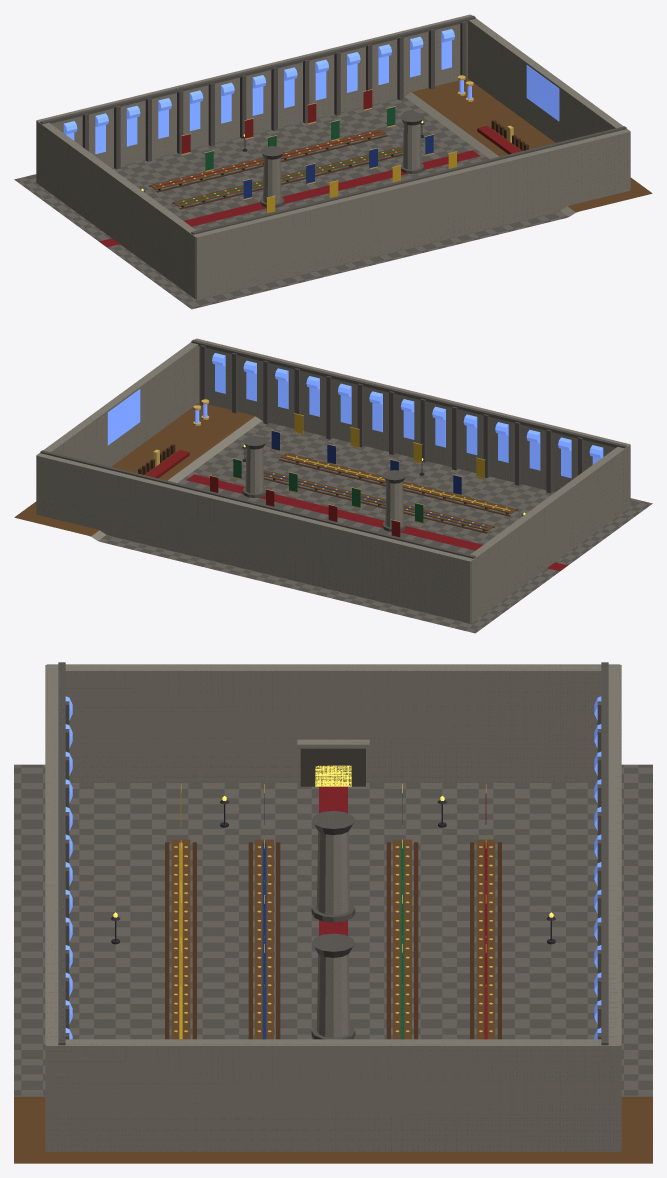
Rendered from greathall.glb.
The picture shows the model from 3 angles, top to bottom: view 1: azimuth 30°, elevation 25°; view 2: azimuth 150°, elevation 25°; view 3: azimuth 270°, elevation 25°; orthographic projection. The views are drawn at different scales.
Visible parts, largest first — view 1: hall_walls, ground, hall_table_0, hall_table_1, hall_pillar_1, hall_pillar_0, hall_teacher, hall_banners_0, hall_banners_2, hall_banners_1, hall_banners_3; view 2: hall_walls, ground, hall_table_3, hall_table_2, hall_pillar_1, hall_pillar_0, hall_teacher, hall_banners_3, hall_banners_1, hall_banners_2, hall_banners_0; view 3: hall_walls, ground, hall_table_0, hall_table_3, hall_table_1, hall_table_2, hall_pillar_0, hall_pillar_1.
Boxes of the visible parts, x1,y1,x2,y2 form: hall_walls: (36, 14, 630, 299); ground: (14, 78, 652, 309); hall_table_0: (149, 129, 387, 192); hall_table_1: (172, 146, 403, 209); hall_pillar_1: (400, 112, 424, 173); hall_pillar_0: (260, 146, 284, 207); hall_teacher: (477, 120, 528, 154); hall_banners_0: (181, 89, 372, 154); hall_banners_2: (243, 134, 434, 199); hall_banners_1: (205, 106, 395, 171); hall_banners_3: (266, 151, 457, 213); hall_walls: (36, 338, 630, 623); ground: (14, 402, 652, 633); hall_table_3: (279, 453, 517, 516); hall_table_2: (263, 470, 494, 533); hall_pillar_1: (242, 436, 266, 497); hall_pillar_0: (382, 470, 406, 531); hall_teacher: (138, 444, 189, 478); hall_banners_3: (294, 413, 485, 478); hall_banners_1: (232, 458, 423, 523); hall_banners_2: (271, 430, 461, 495); hall_banners_0: (209, 475, 400, 537); hall_walls: (45, 662, 621, 1151); ground: (14, 764, 652, 1163); hall_table_0: (470, 839, 501, 1039); hall_table_3: (165, 839, 196, 1039); hall_table_1: (386, 839, 418, 1039); hall_table_2: (248, 839, 280, 1039); hall_pillar_0: (311, 810, 355, 922); hall_pillar_1: (311, 933, 355, 1039).
Size of the model in its own units: 132 by 17.4 by 88.
1 material, 1 textured.
